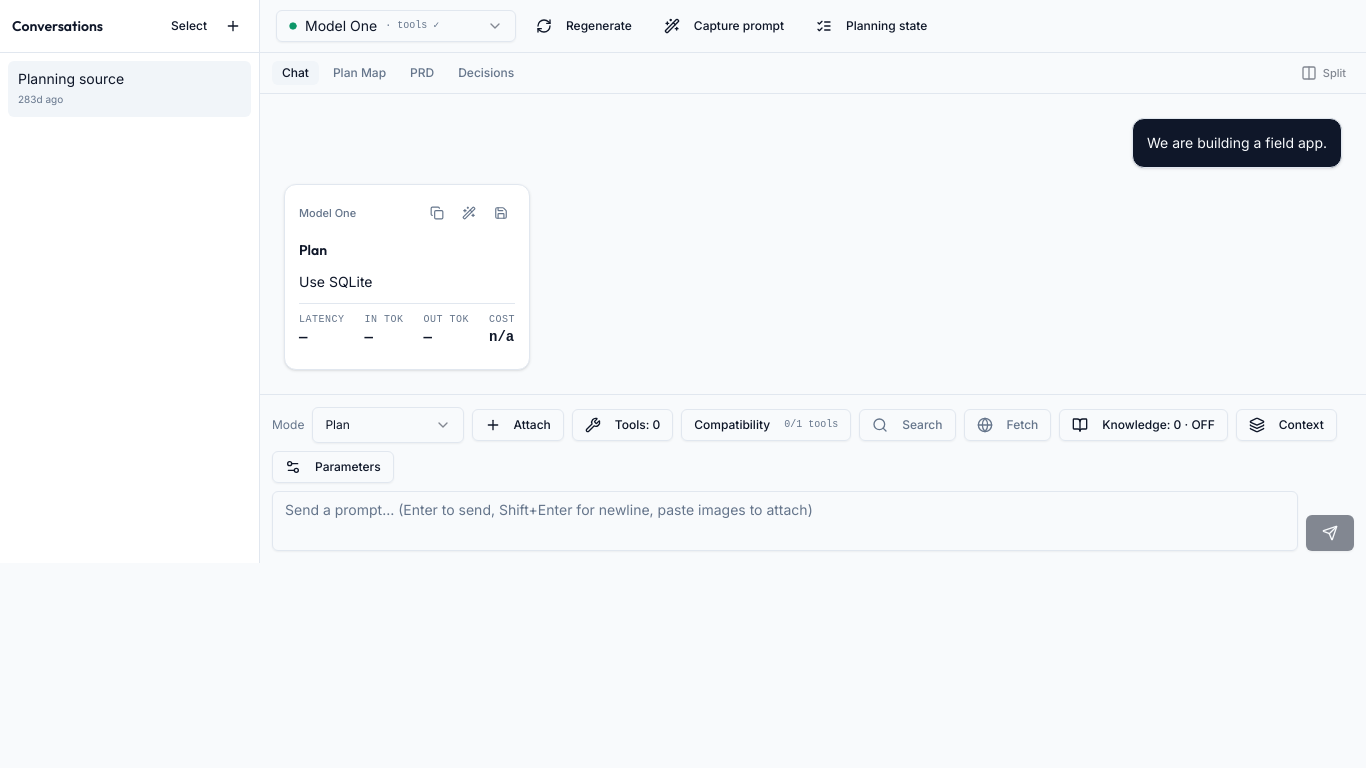
Test case: split toggle shows chat and the selected panel side-by-side and toggles back
The image size is (1366, 768).
Click the button with test id "workspace-plan-tab-plan-map" at (359, 73), box [323,61,396,85]
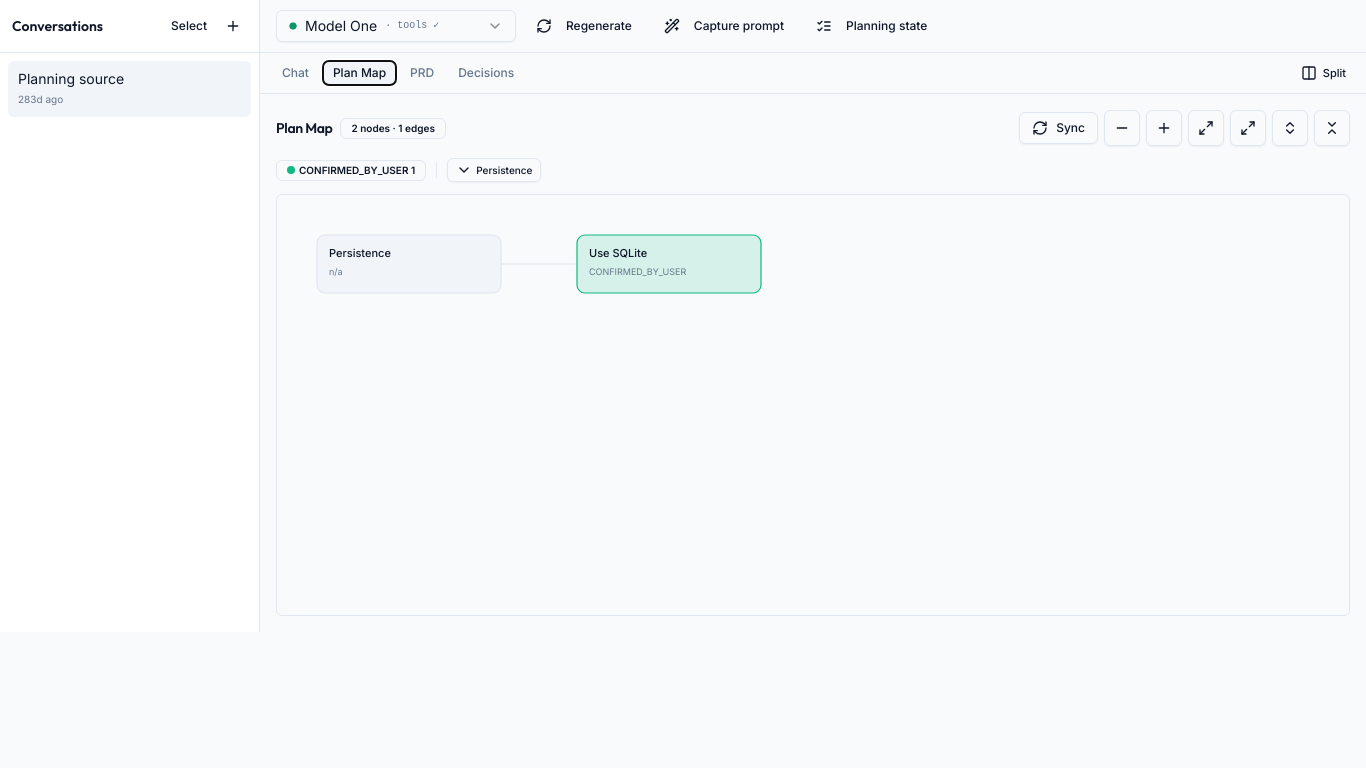
expect the button with test id "workspace-plan-split" is enabled: met
Click the button with test id "workspace-plan-split" at (1323, 73), box [1293,59,1354,87]
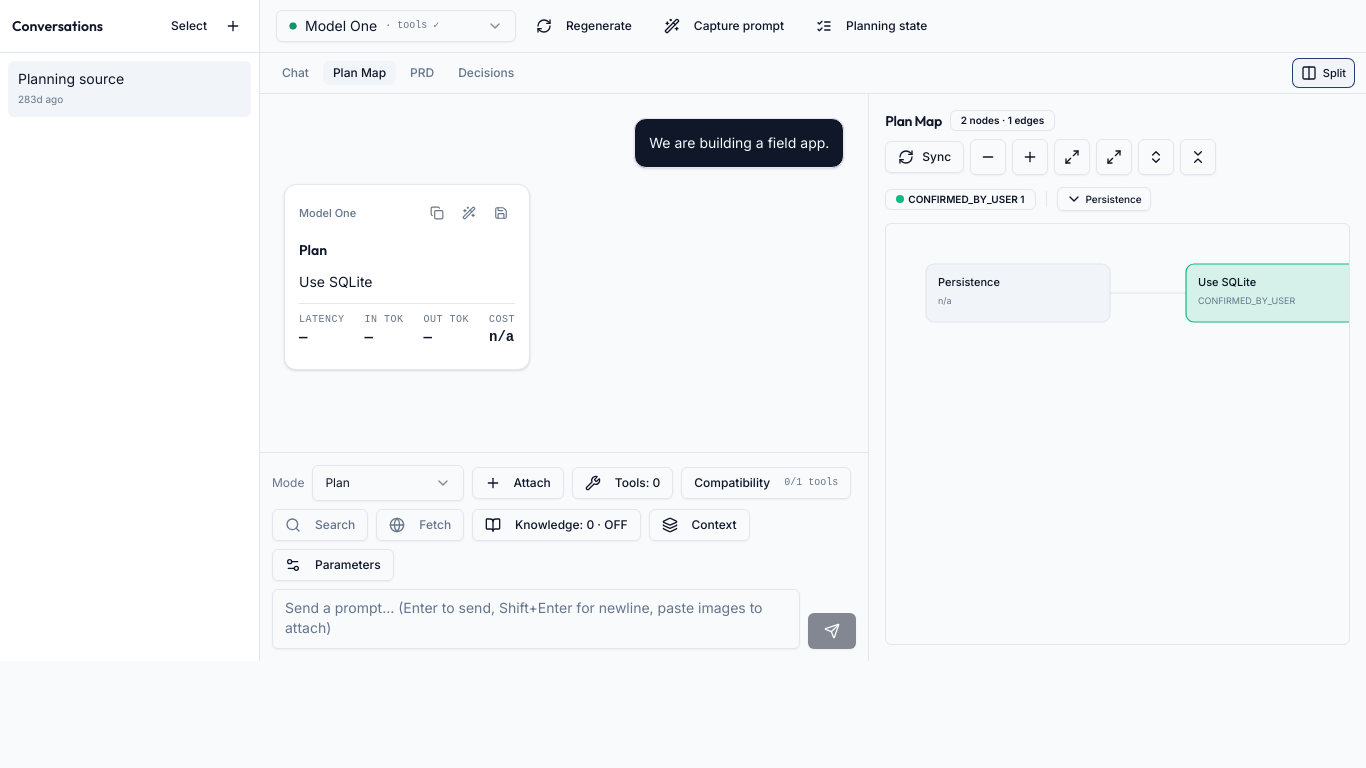
expect the element with test id "workspace-plan-plan-map" is shown: met, box [868,94,1365,661]
expect the element with test id "workspace-plan-split-active" is shown: met, box [260,94,1365,661]
expect the element with test id "workspace-plan-chat" is shown: met, box [260,94,868,661]
Click the button with test id "workspace-plan-split" at (1323, 73), box [1293,59,1354,87]
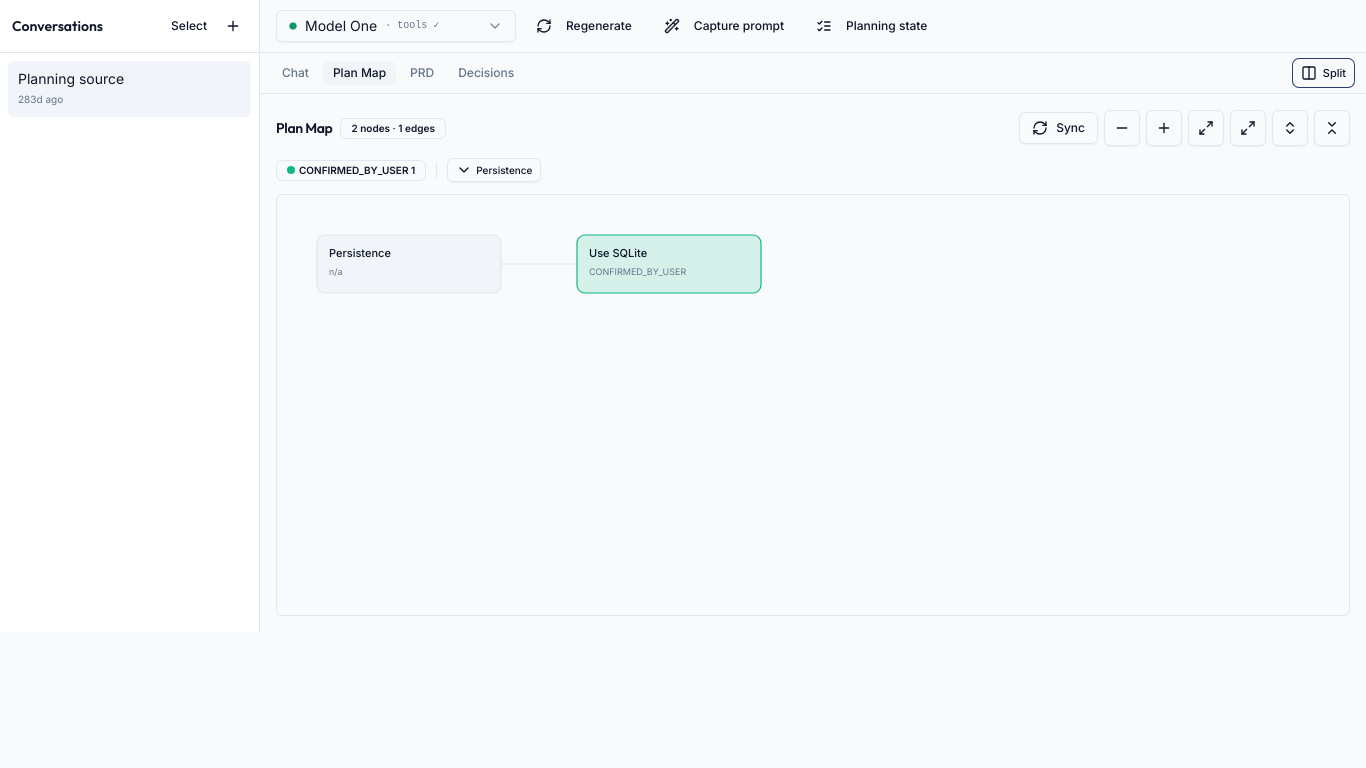
expect the element with test id "workspace-plan-chat" is gone: met
expect the element with test id "workspace-plan-plan-map" is shown: met, box [260,94,1365,632]
expect the text box with test id "workspace-input" is gone: met
